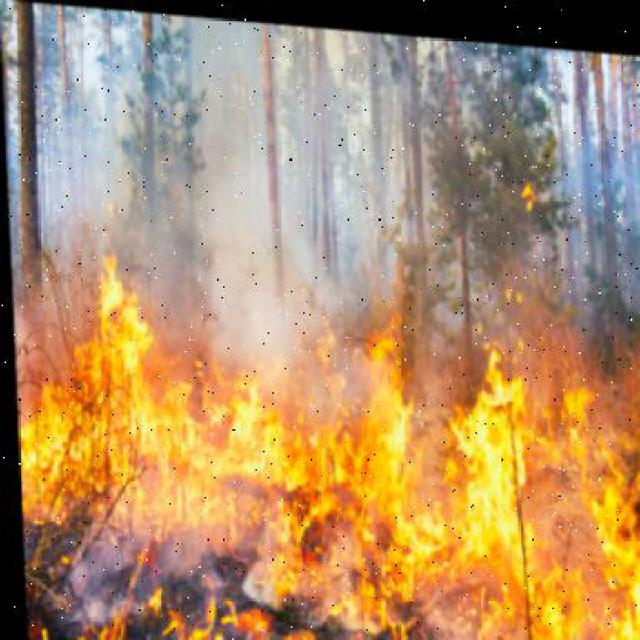fire: (9, 252, 640, 639)
